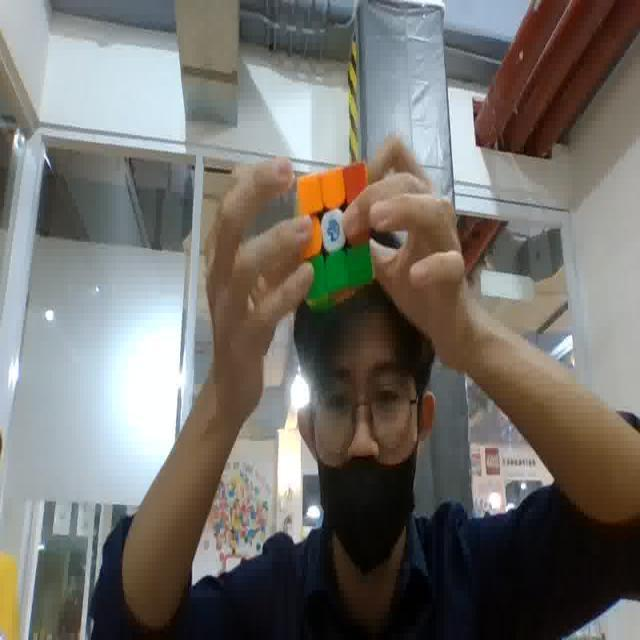Rub: (294, 158, 374, 314)
